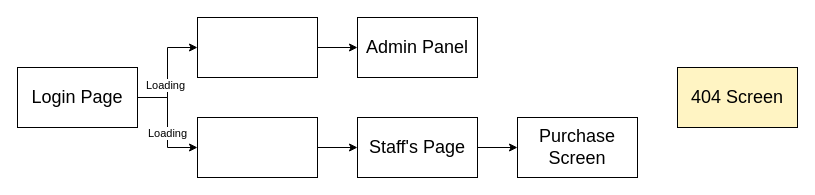
This 815x195 diagram has some shape labels left out. The shapes that lost their labels are listed below. From the top down, each one's centre as x and y in pixels, then its label:
At (x=257, y=47): "Admin Feed".
At (x=257, y=147): "Staff Feed".
